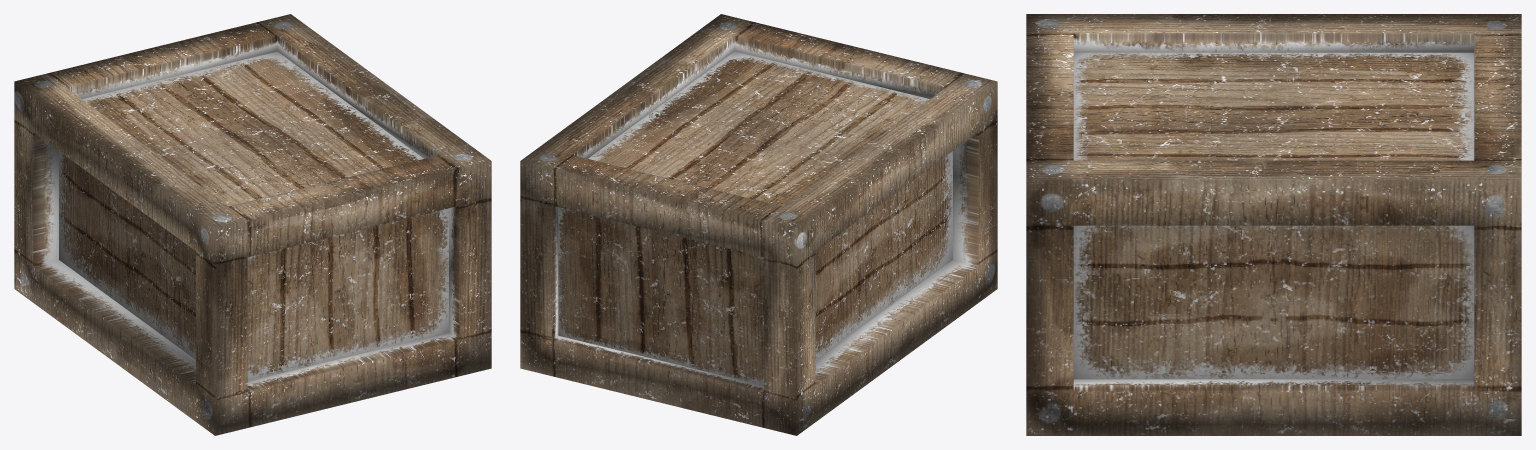
File: wooden_chest.fbx
3 views of the same model, side by side, from view 1: azimuth 30°, elevation 25°; view 2: azimuth 150°, elevation 25°; view 3: azimuth 270°, elevation 25° (orthographic). The views are drawn at different scales.
Visible parts, largest first — view 1: Box001; view 2: Box001; view 3: Box001.
Part boxes in pixels (bbox=[...]): Box001: bbox=[14, 14, 491, 435]; Box001: bbox=[520, 14, 997, 435]; Box001: bbox=[1026, 14, 1521, 435].
Size of the model in its own units: 36.5 by 26.17 by 45.92.
